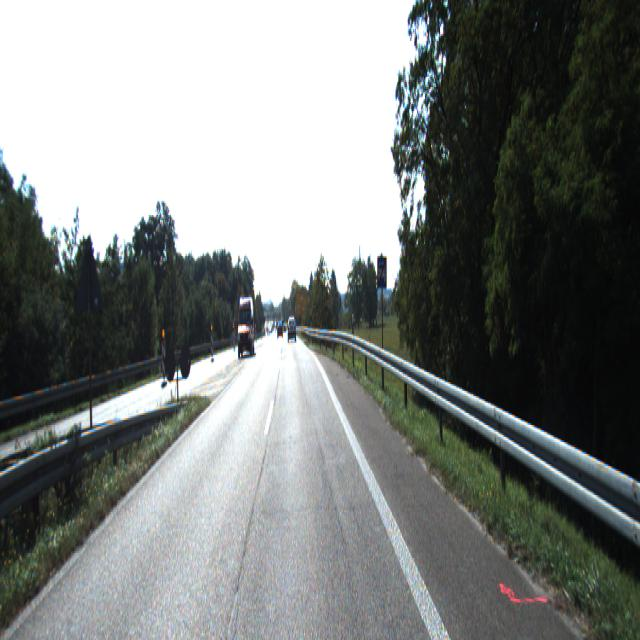Car: (236, 296, 255, 361), (287, 318, 297, 342)
